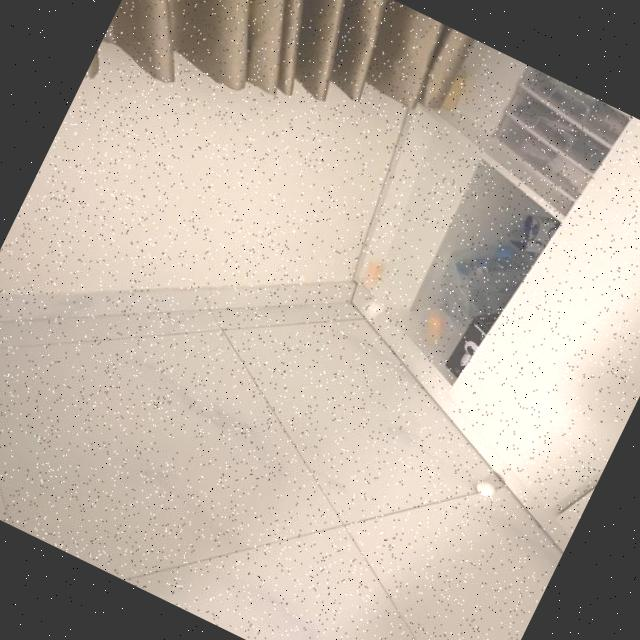ping-pong-ball: (356, 254, 390, 294), (416, 306, 449, 344), (354, 290, 386, 324), (470, 476, 499, 500)
